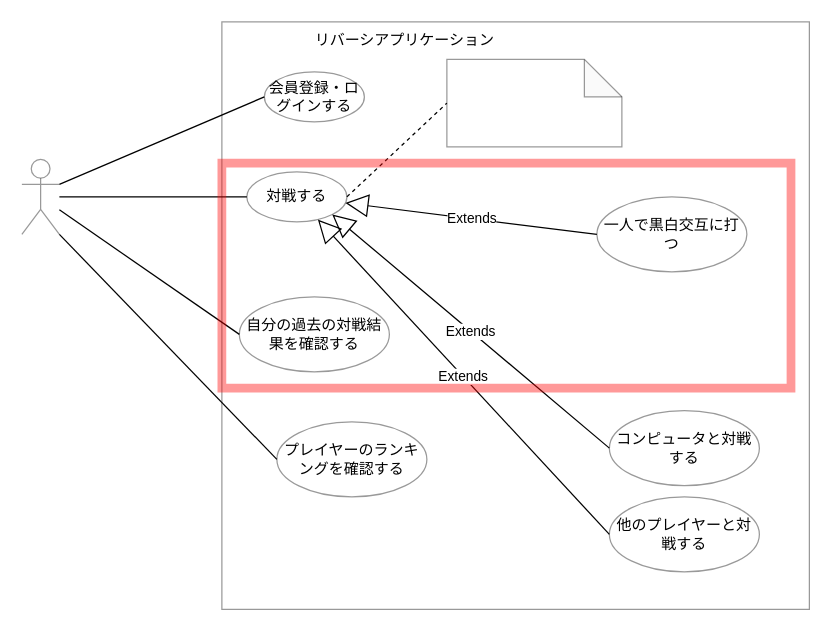
This 831x631 diagram has some shape labels left out. Each missing label, with the box of its shape:
Actor: (21, 158, 59, 234)
・対戦を開始する ・盤面を見る ・石を打つ ・勝敗を確認する: (446, 58, 622, 147)
